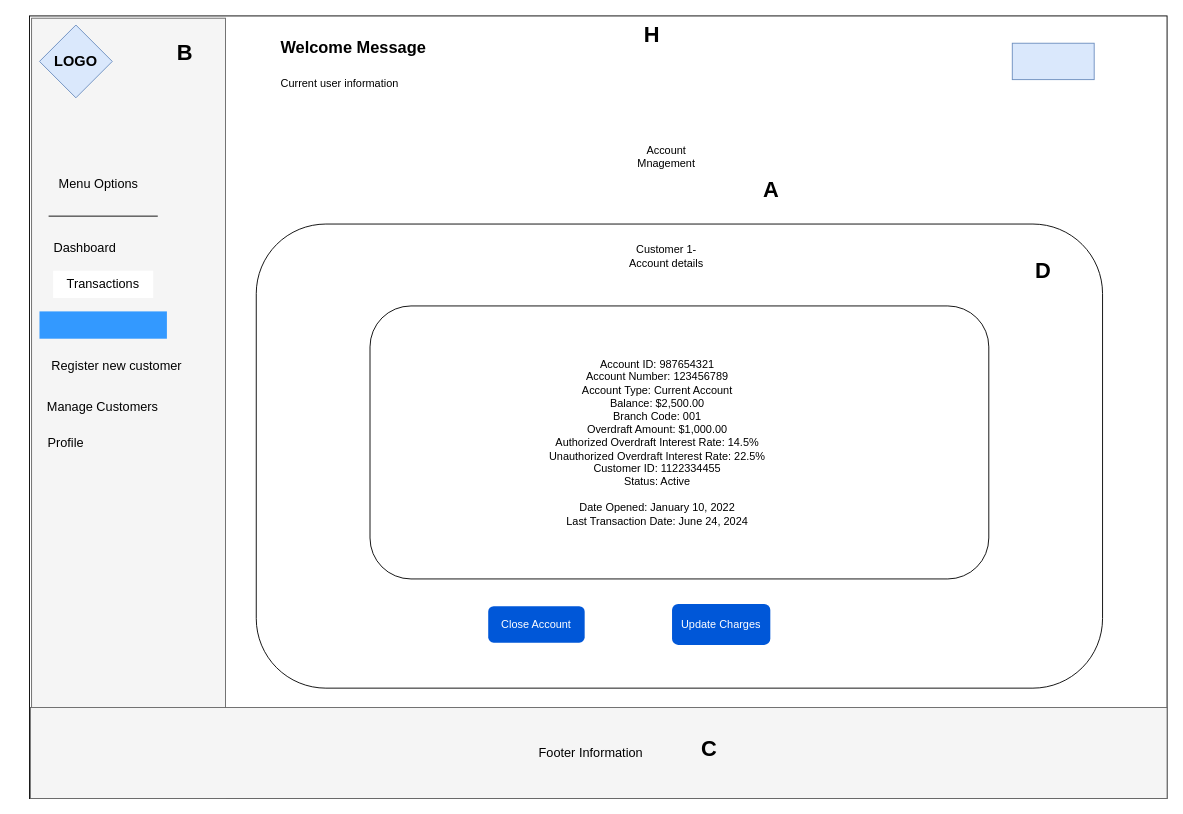
The diagram is 1183 pixels wide and 814 high, and some of its shapes have lost their labels. The shapes that lost their labels are listed below. From the top down, each one's box as (x1, y1, x2, y2) in pixels, then its label:
(1011, 42, 1094, 80): Logout
(39, 311, 166, 338): Manage Accounts
